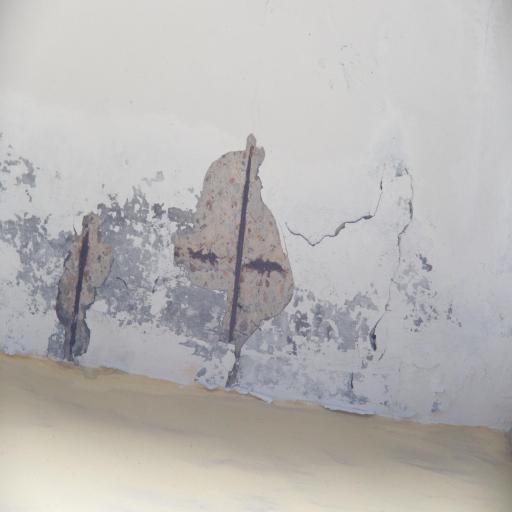exposed_rebar: (229, 145, 253, 344), (75, 232, 88, 312), (242, 258, 286, 276), (193, 249, 217, 265), (70, 315, 77, 353)
spalling: (174, 135, 294, 386), (55, 213, 113, 360)
